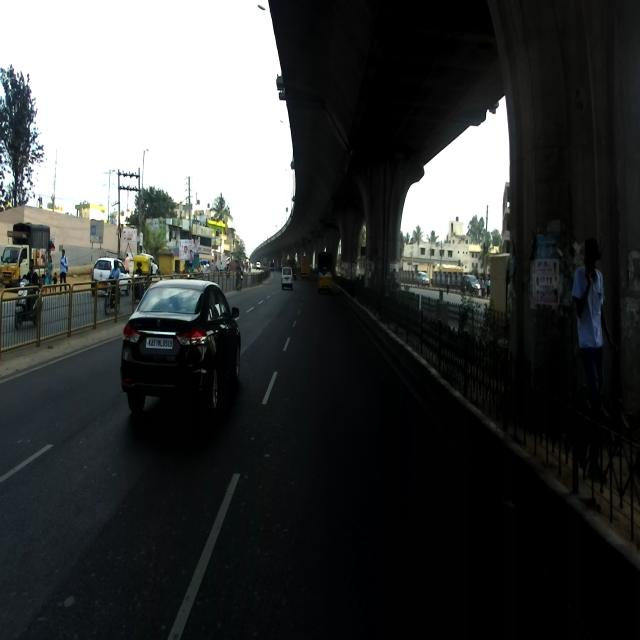car ahead at: (122, 269, 245, 423)
